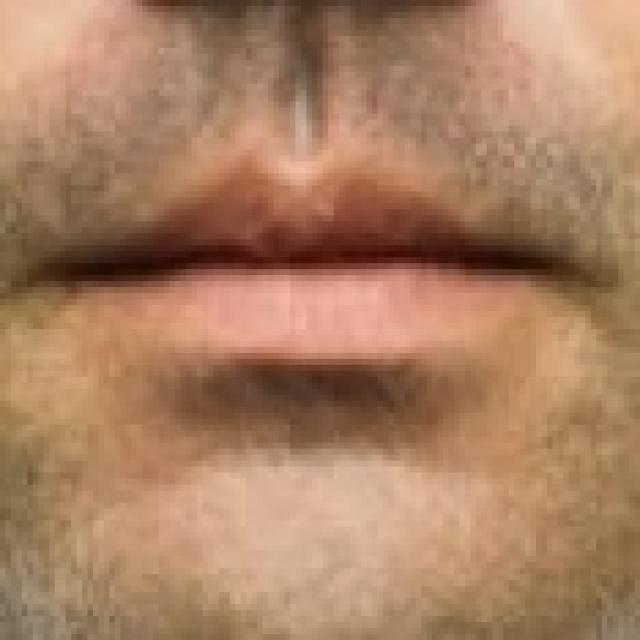closed-mouth: (27, 164, 602, 371)
